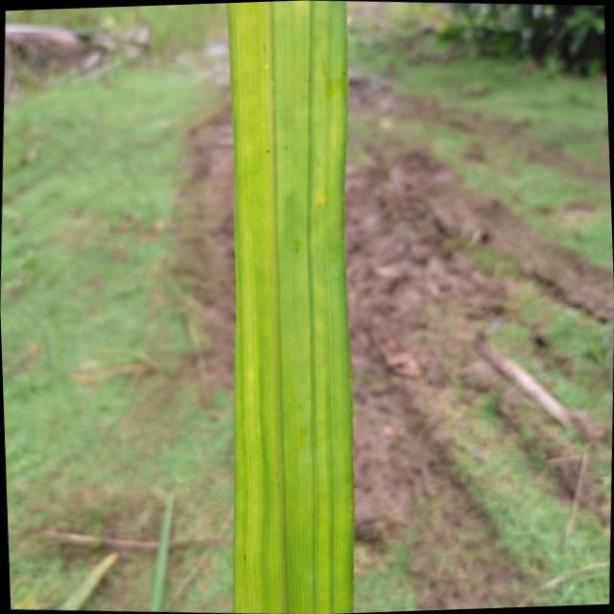nitrogen: (229, 0, 355, 614)
